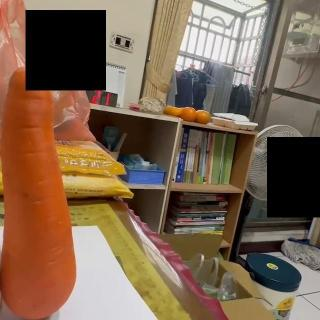carrot: (0, 62, 78, 318)
